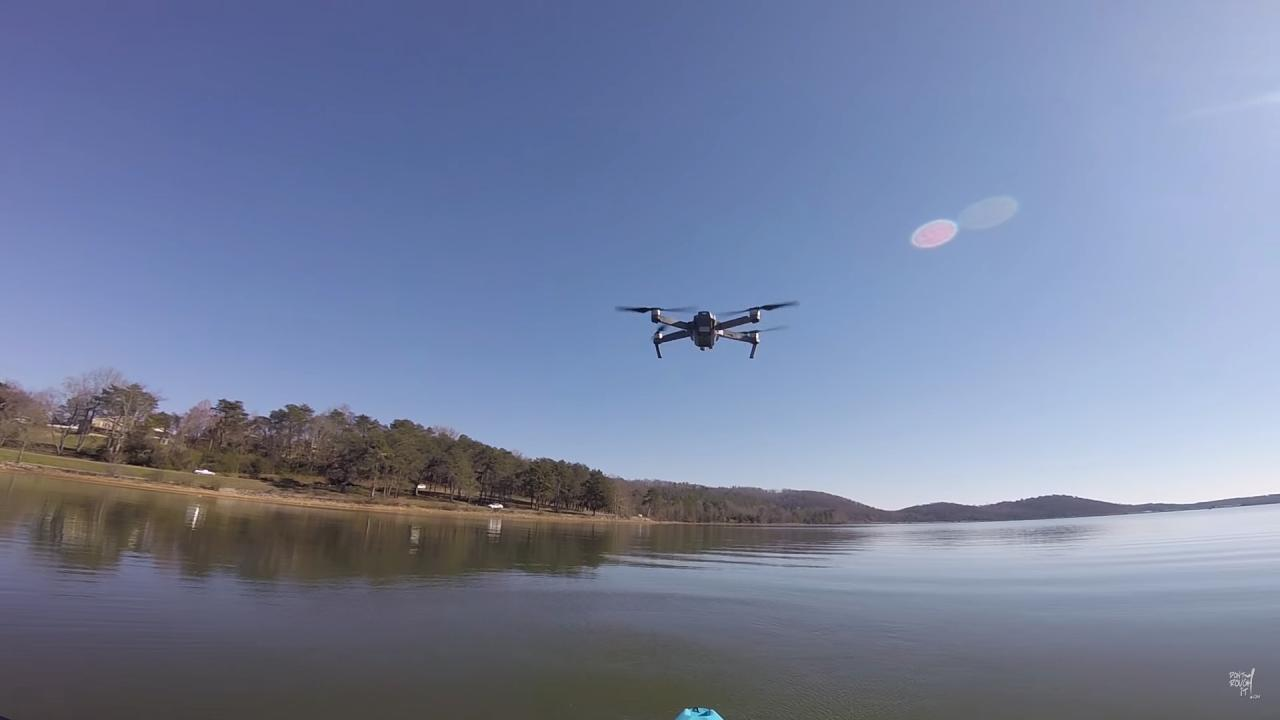Drone: (602, 286, 810, 372)
